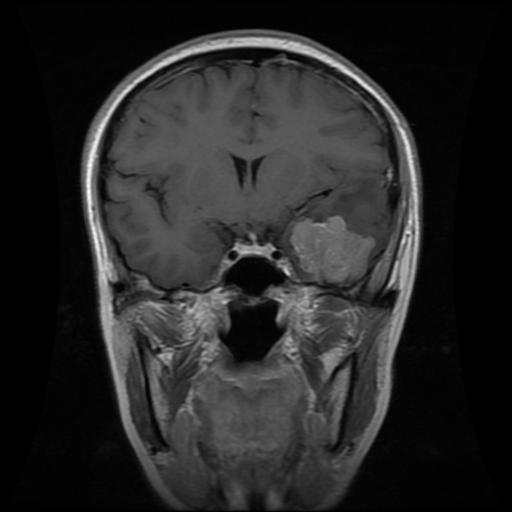Menigiomia_tumour: (290, 214, 375, 284)
